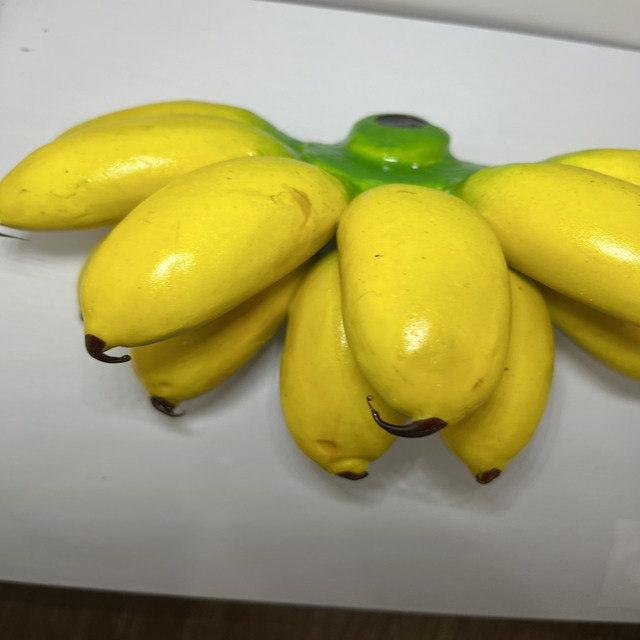Chuoi: (0, 93, 640, 492)
